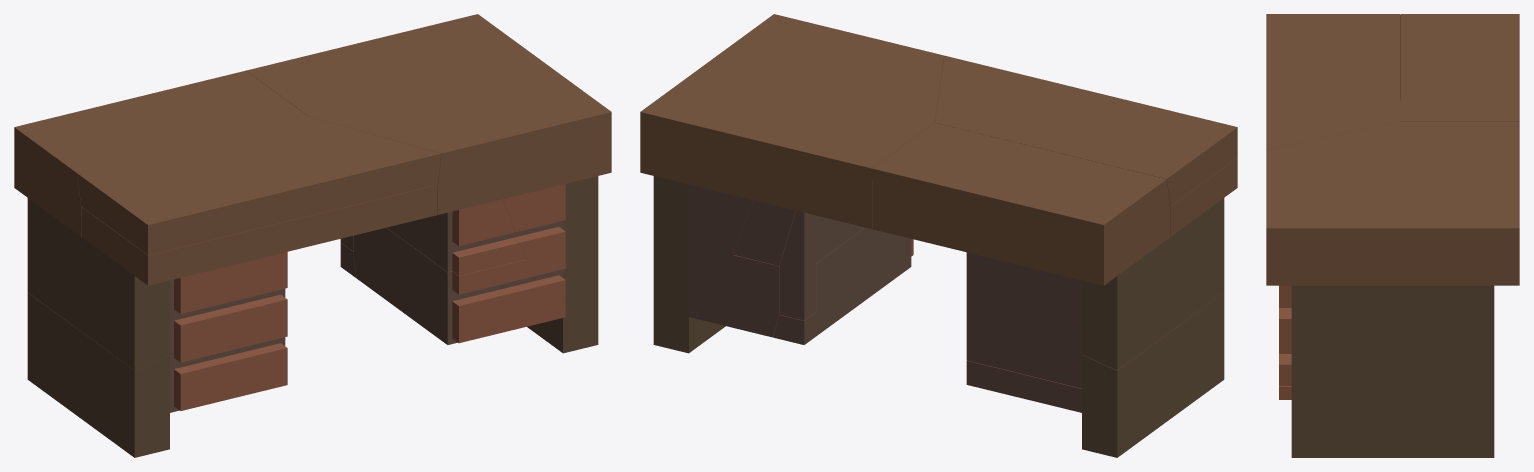
Rendered from escritorio.fbx.
3 views of the same model, side by side, from view 1: azimuth 30°, elevation 25°; view 2: azimuth 150°, elevation 25°; view 3: azimuth 270°, elevation 25° (orthographic). The views are drawn at different scales.
Visible parts, largest first — view 1: Cube_cell, Cube_cell.003, Cube_cell.002, Cube.005_cell.004, Cube.005_cell.003, Cube.001_cell.001, Cube.001_cell.002, Cube_cell.001, Cube.001_cell, Cube.005_cell.001, Cube.005_cell.002; view 2: Cube_cell, Cube_cell.002, Cube_cell.003, Cube.001_cell.001, Cube.001_cell.002, Cube.005_cell.006, Cube.005_cell.003, Cube.001_cell.003, Cube.005_cell.002, Cube.005_cell.001, Cube.005_cell, Cube.005_cell.007 (+2 smaller); view 3: Cube_cell, Cube.001_cell.003, Cube.001_cell, Cube_cell.003, Cube_cell.002, Cube.005_cell.002.
Part boxes in pixels (box(x1,y1,x2,y2)): Cube_cell: box(246, 14, 611, 214); Cube_cell.003: box(77, 116, 441, 255); Cube_cell.002: box(14, 70, 308, 236); Cube.005_cell.004: box(169, 252, 287, 412); Cube.005_cell.003: box(353, 227, 565, 344); Cube.001_cell.001: box(27, 198, 169, 370); Cube.001_cell.002: box(27, 292, 169, 457); Cube_cell.001: box(81, 185, 437, 285); Cube.001_cell: box(527, 176, 598, 353); Cube.005_cell.001: box(387, 199, 525, 275); Cube.005_cell.002: box(503, 184, 565, 302); Cube_cell: box(640, 14, 944, 228); Cube_cell.002: box(872, 123, 1170, 285); Cube_cell.003: box(935, 55, 1237, 205); Cube.001_cell.001: box(1082, 198, 1224, 370); Cube.001_cell.002: box(1082, 292, 1224, 457); Cube.005_cell.006: box(966, 252, 1082, 388); Cube.005_cell.003: box(689, 227, 913, 337); Cube.001_cell.003: box(653, 176, 725, 353); Cube.005_cell.002: box(689, 184, 753, 301); Cube.005_cell.001: box(733, 200, 864, 265); Cube.005_cell: box(779, 210, 816, 320); Cube.005_cell.007: box(966, 360, 1081, 412); Cube_cell: box(1266, 121, 1519, 285); Cube.001_cell.003: box(1389, 285, 1494, 457); Cube.001_cell: box(1291, 285, 1389, 457); Cube_cell.003: box(1266, 14, 1400, 149); Cube_cell.002: box(1400, 14, 1519, 121); Cube.005_cell.002: box(1279, 285, 1291, 386).
Bounding box in the file's own units: 400 × 200 × 200.
